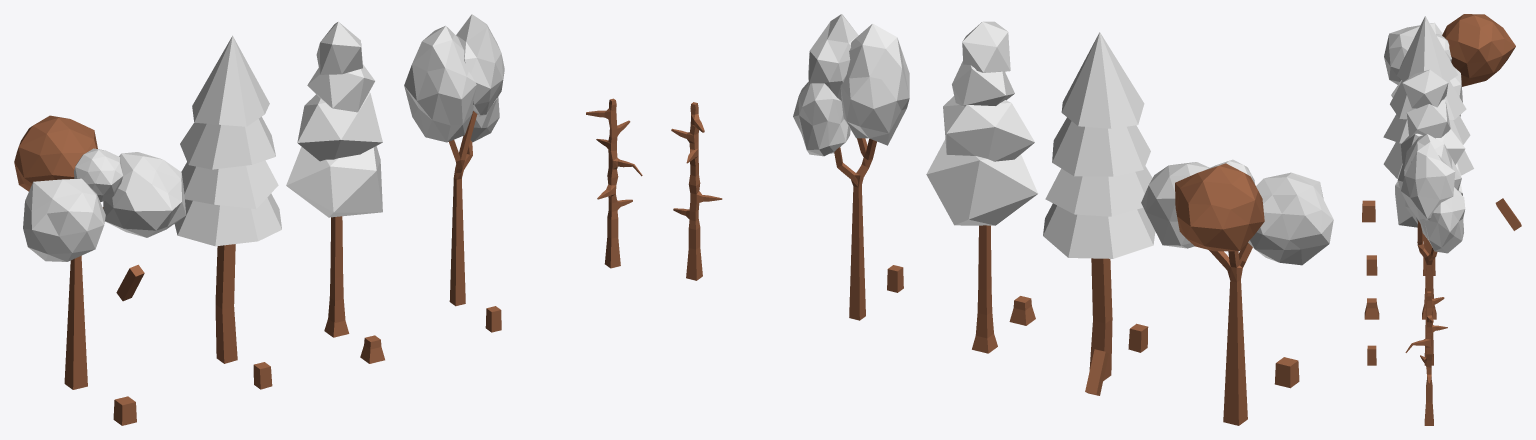
The model's file is Trees.fbx.
The picture shows the model from 3 angles, left to right: view 1: azimuth 30°, elevation 25°; view 2: azimuth 150°, elevation 25°; view 3: azimuth 270°, elevation 25°; orthographic projection. The views are drawn at different scales.
Visible parts, largest first — view 1: Tree.001, Tree.002, Tree.003, Tree.004, 실린더, Chopped_Tree.001; view 2: Tree.002, Tree.001, Tree.003, Tree.004, 실린더, Wood, Chopped_Tree.001; view 3: Tree.004, Tree.001, Tree.002, Tree.003, 실린더, Wood, Chopped_Tree.001, Chopped_Tree.003, Chopped_Tree.004, Chopped_Tree.002.
Part boxes in pixels (left/top/right/bottom): Tree.001: left=14, top=115, right=186, bottom=389; Tree.002: left=174, top=35, right=281, bottom=363; Tree.003: left=286, top=21, right=382, bottom=337; Tree.004: left=404, top=14, right=504, bottom=306; 실린더: left=586, top=98, right=642, bottom=268; Chopped_Tree.001: left=113, top=396, right=136, bottom=425; Tree.002: left=1043, top=32, right=1155, bottom=380; Tree.001: left=1141, top=159, right=1333, bottom=425; Tree.003: left=926, top=21, right=1037, bottom=353; Tree.004: left=793, top=14, right=909, bottom=320; 실린더: left=671, top=102, right=722, bottom=280; Wood: left=1085, top=349, right=1108, bottom=395; Chopped_Tree.001: left=1274, top=357, right=1299, bottom=388; Tree.004: left=1397, top=134, right=1465, bottom=365; Tree.001: left=1384, top=14, right=1515, bottom=116; Tree.002: left=1383, top=16, right=1473, bottom=275; Tree.003: left=1395, top=69, right=1465, bottom=319; 실린더: left=1405, top=291, right=1447, bottom=425; Wood: left=1495, top=198, right=1521, bottom=230; Chopped_Tree.001: left=1362, top=200, right=1375, bottom=222; Chopped_Tree.003: left=1364, top=298, right=1379, bottom=319; Chopped_Tree.004: left=1366, top=255, right=1377, bottom=275; Chopped_Tree.002: left=1367, top=345, right=1376, bottom=365.
Size of the model in its own units: 3193 by 1616 by 902.
Materials: 9 (4 with a texture image).
